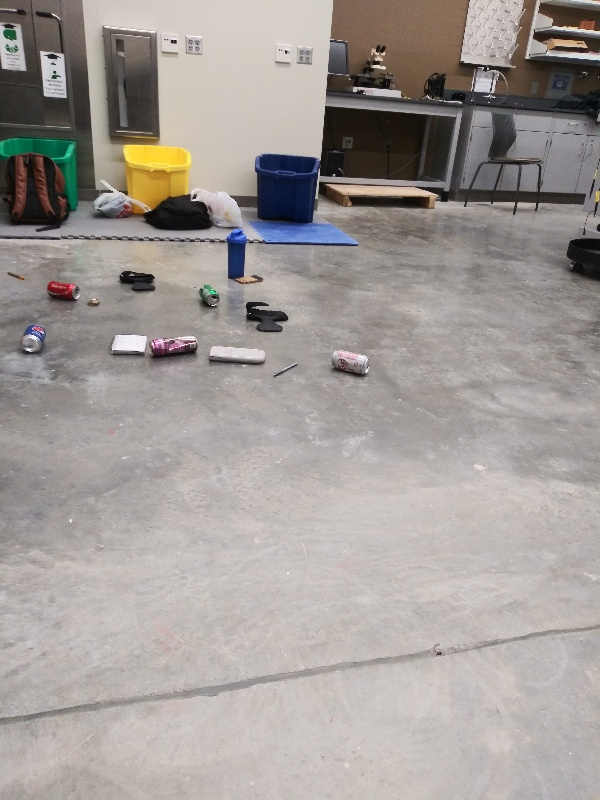can: (325, 344, 373, 377), (146, 330, 200, 359), (19, 323, 52, 354), (44, 279, 86, 303), (198, 281, 222, 312)
